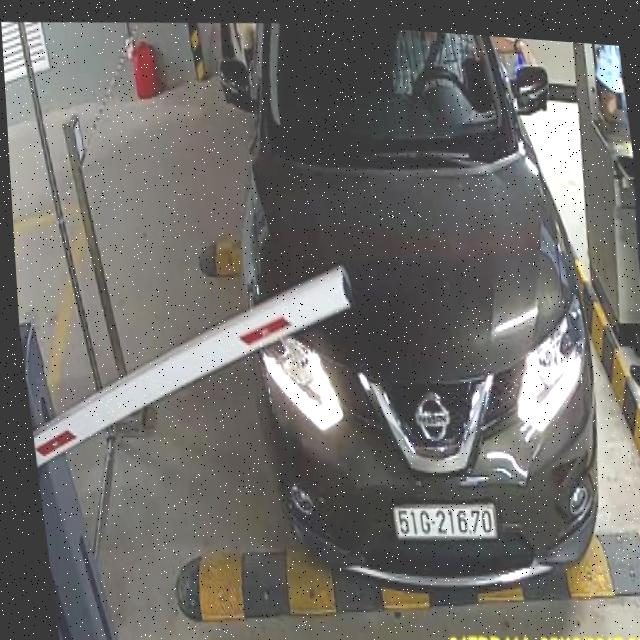car: (205, 15, 625, 620)
plate: (384, 489, 505, 553)
